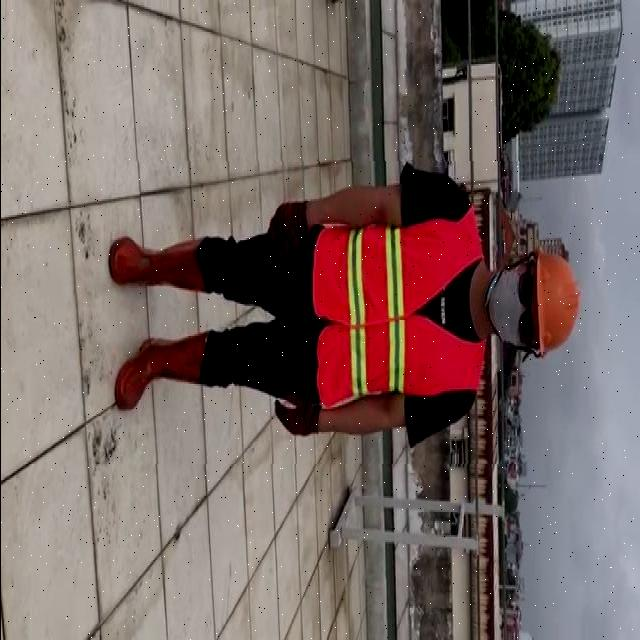Boots: (113, 332, 210, 410), (106, 230, 208, 294)
Helmet: (96, 161, 586, 464), (532, 242, 578, 361)
Vest: (314, 210, 479, 403)
